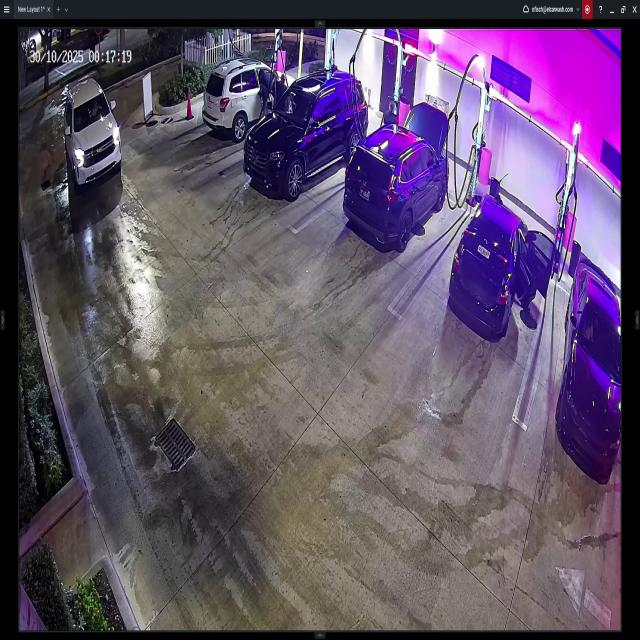Car: (344, 100, 451, 250), (449, 190, 556, 337), (555, 256, 622, 480), (246, 75, 364, 196), (202, 59, 296, 135), (57, 80, 122, 188)
